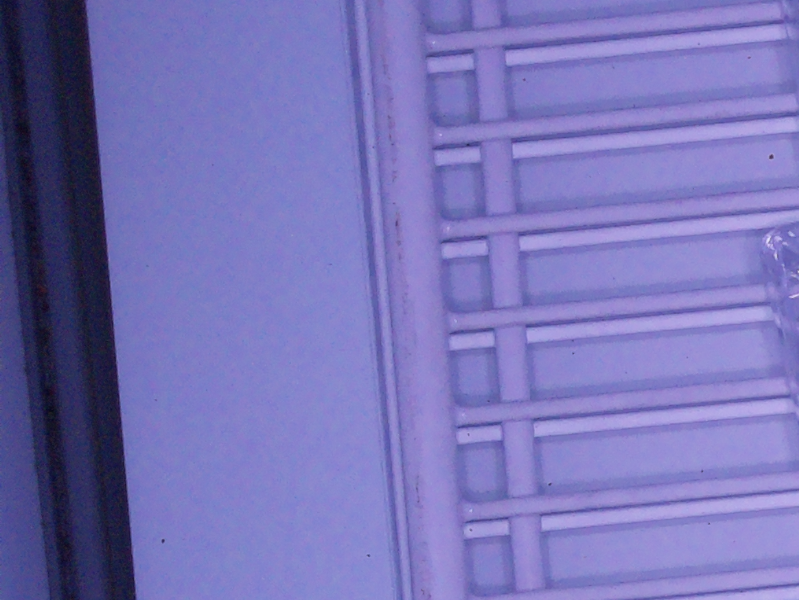plate: (759, 218, 799, 361)
